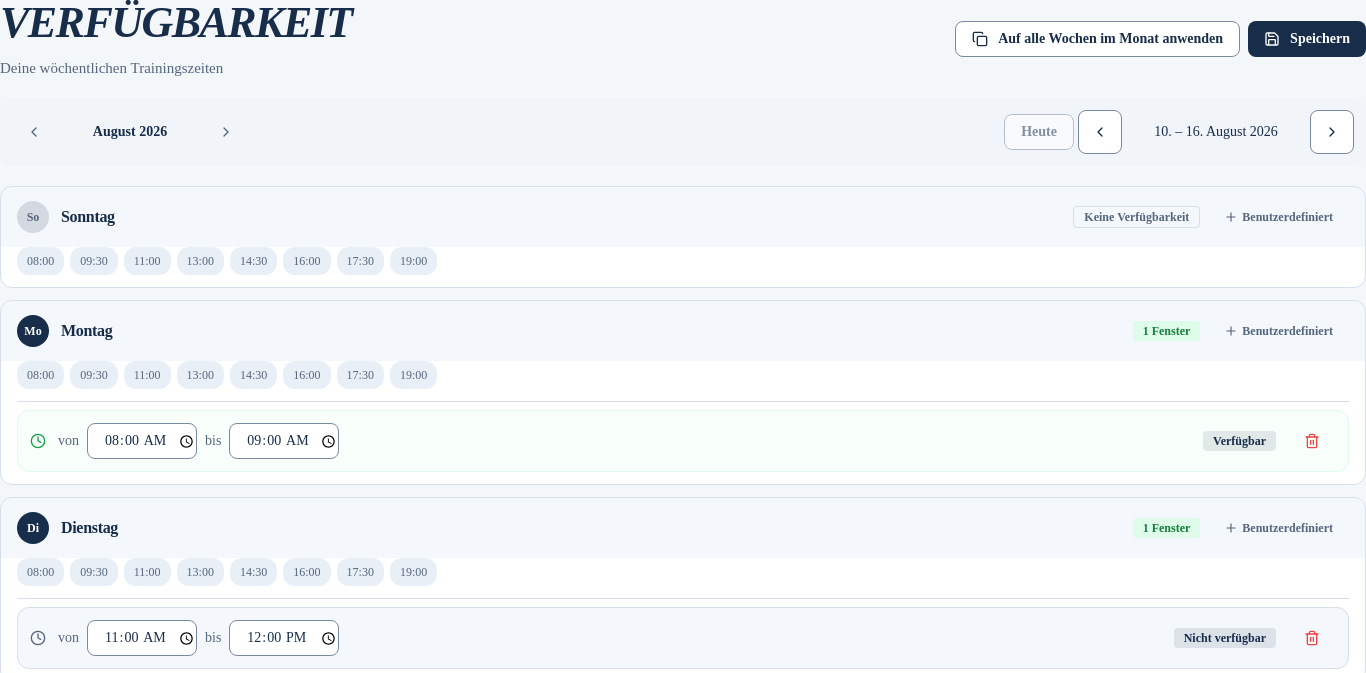
Scenario: TrainerAvailabilityManager (integration) › saveSlots does not DELETE booked slots that remain in the UI
The image size is (1366, 673).
Check: the button "Speichern" is shown, box top-left (1248, 21), bottom-right (1365, 57)
Step 1. Click the button "08:00" below "Montag" → coordinates (41, 375), box top-left (17, 361), bottom-right (64, 389)
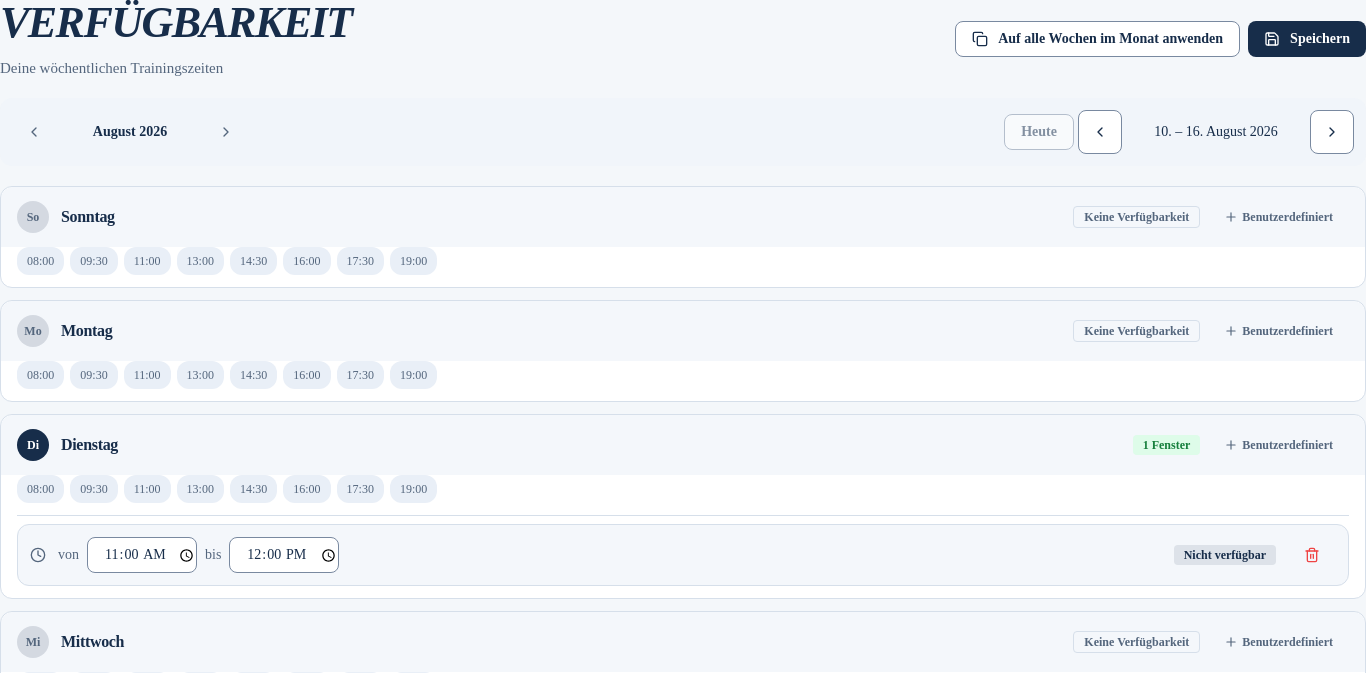
Step 2. Click the button "Speichern" → coordinates (1307, 39), box top-left (1248, 21), bottom-right (1365, 57)
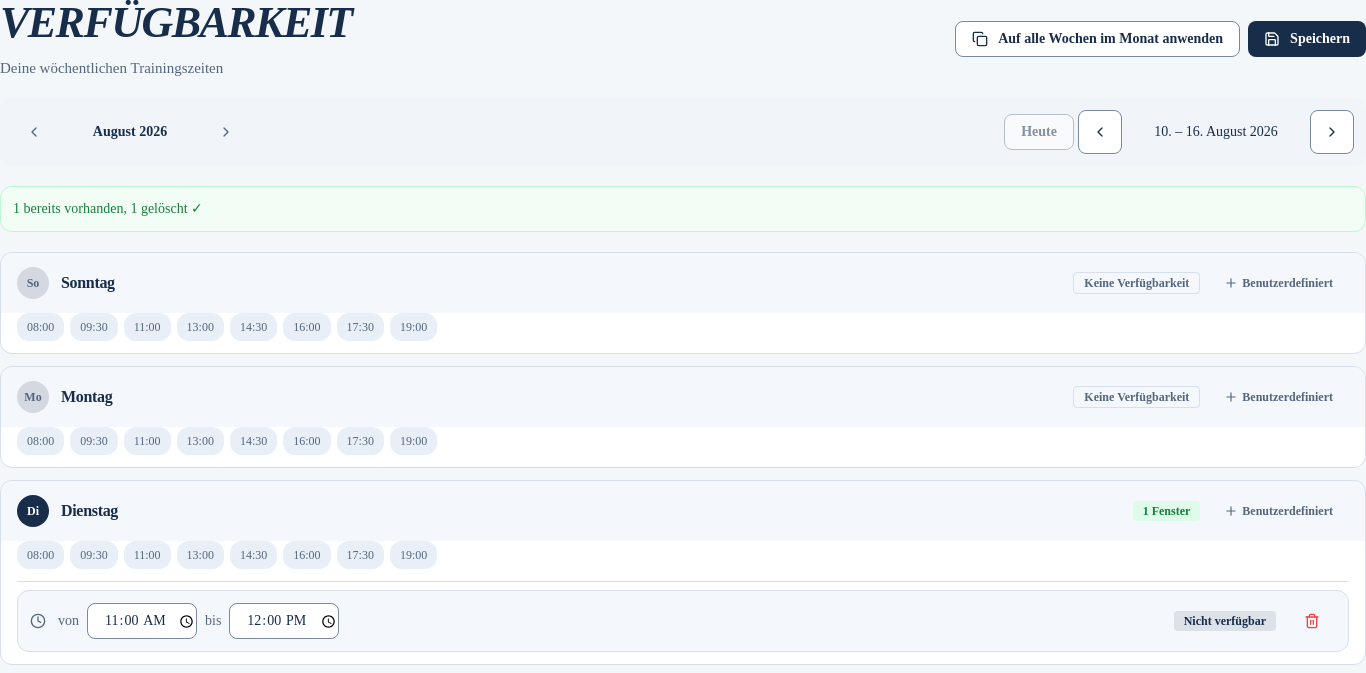
Check: the text "1 bereits vorhanden" is shown, box top-left (13, 201), bottom-right (203, 216)
Check: the text "1 gelöscht" is shown, box top-left (13, 201), bottom-right (203, 216)
